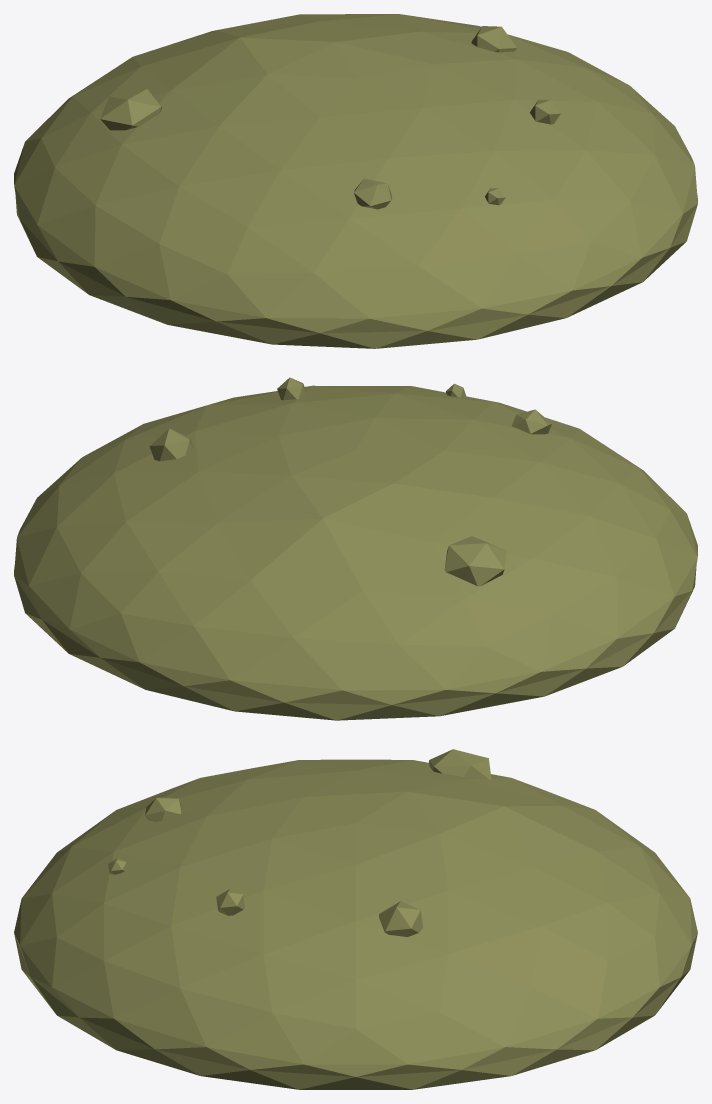
The model's file is terrain.gltf.
3 views of the same model, one above another, from view 1: azimuth 30°, elevation 25°; view 2: azimuth 150°, elevation 25°; view 3: azimuth 270°, elevation 25° (orthographic).
Parts seen in each view (by area): view 1: Terrain.000; view 2: Terrain.000; view 3: Terrain.000.
Boxes of the visible parts, x1,y1,x2,y2 form: Terrain.000: (14,14,697,348); Terrain.000: (14,377,697,720); Terrain.000: (14,749,697,1089).
Size of the model in its own units: 6.73 by 1.66 by 6.73.
